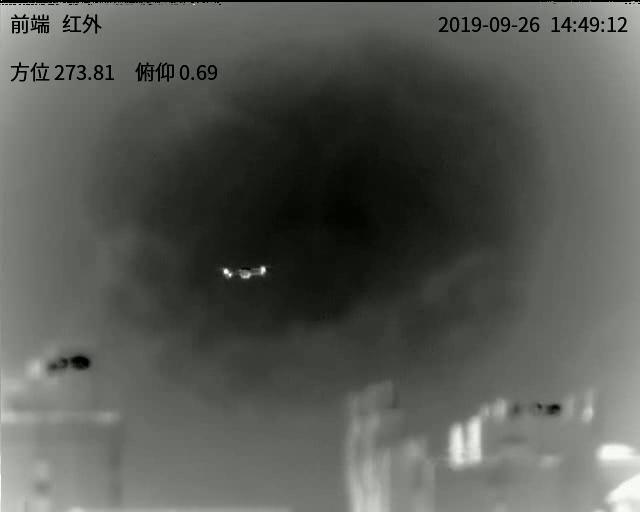DRONE: (221, 263, 267, 280)
